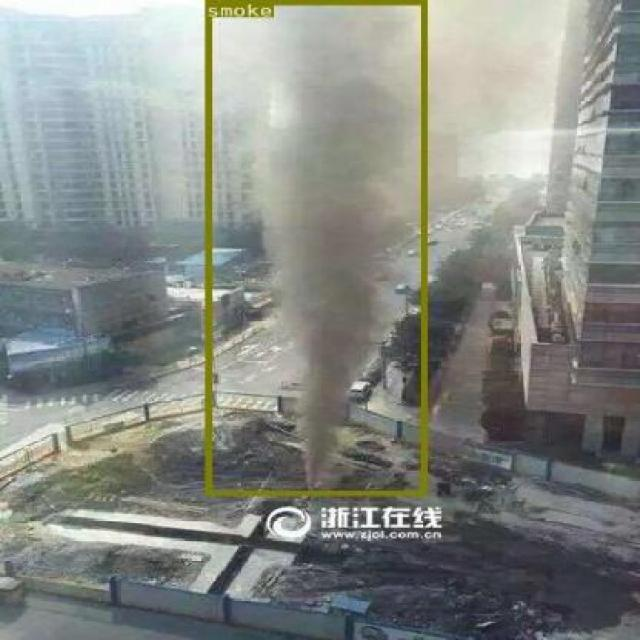Smoke: (204, 0, 424, 495)
